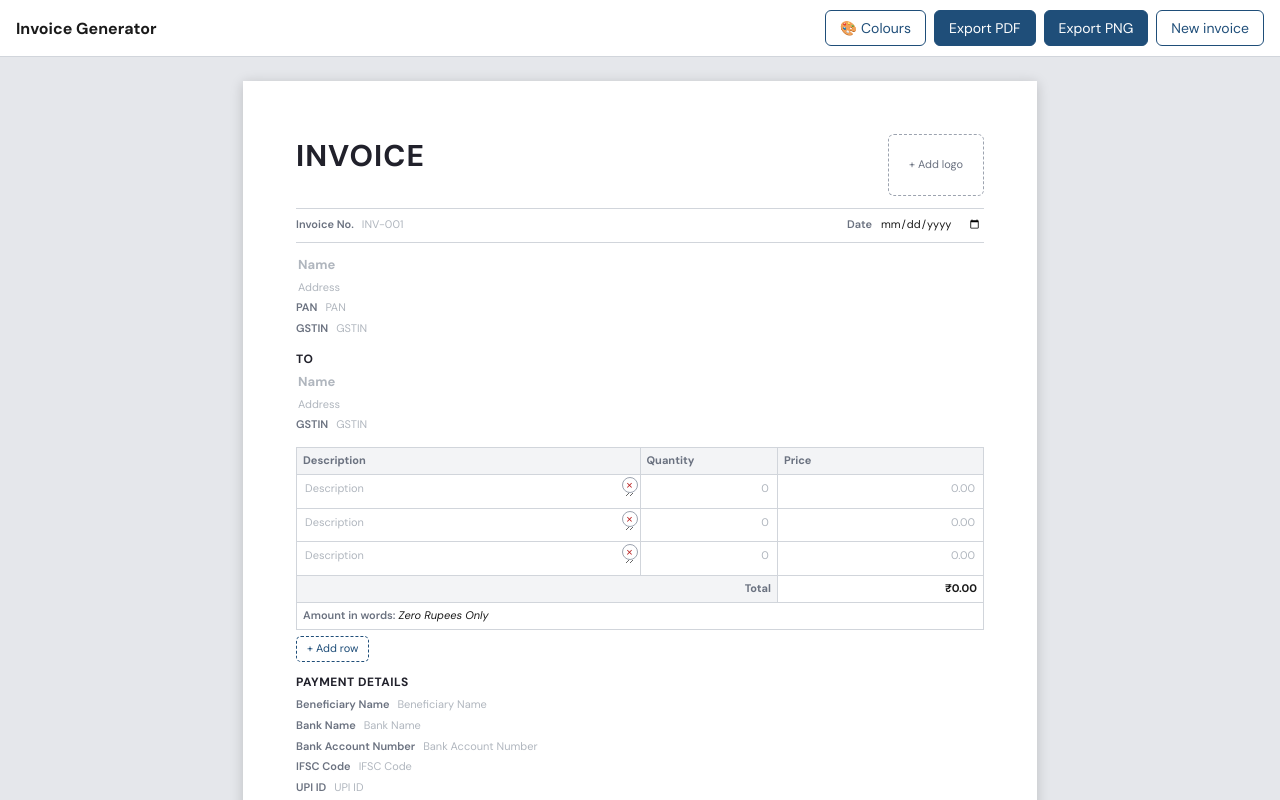
it: App › updates the Total and amount-in-words live from the Price column
The width and height of the screenshot is (1280, 800).
Type "100" into the 1st field with placeholder "0.00" at [880, 489], box [784,480,977,498]
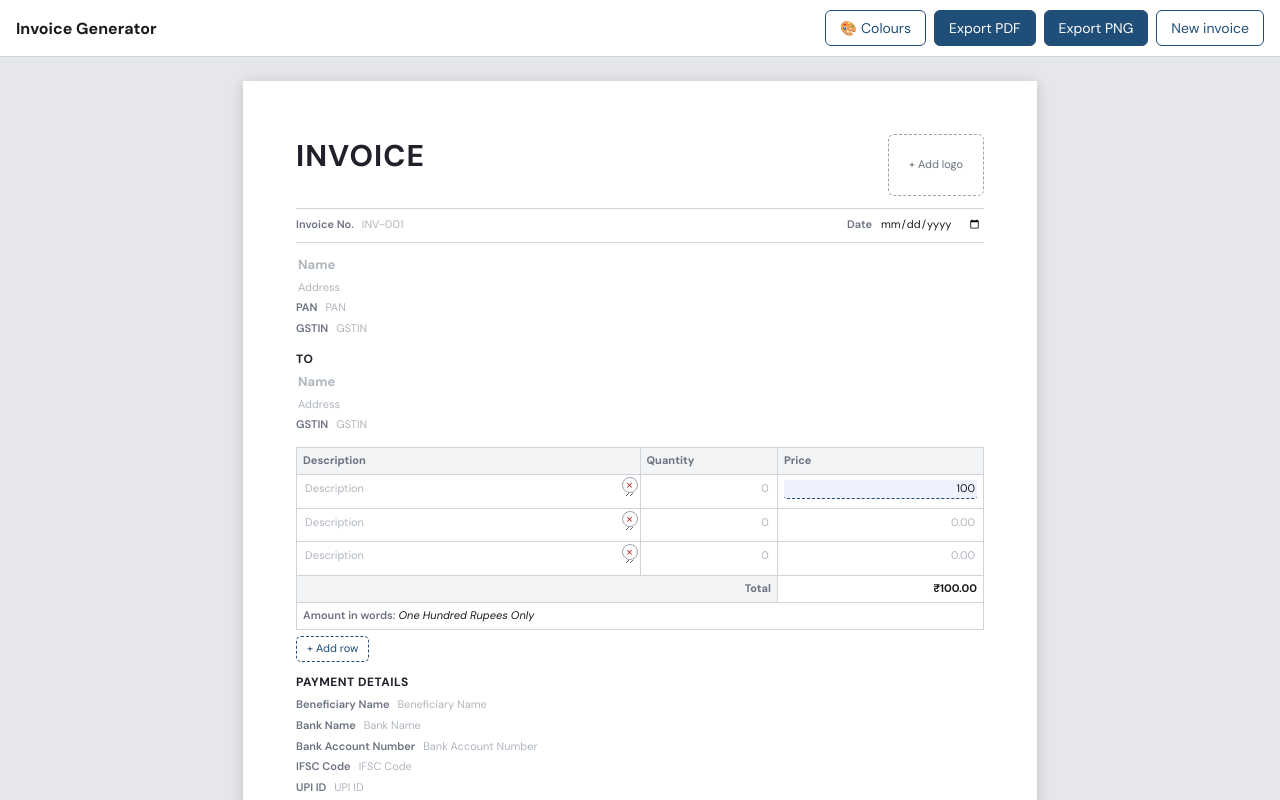
Type "250.50" into the 1st field with placeholder "0.00" at [880, 523], box [784,514,977,532]
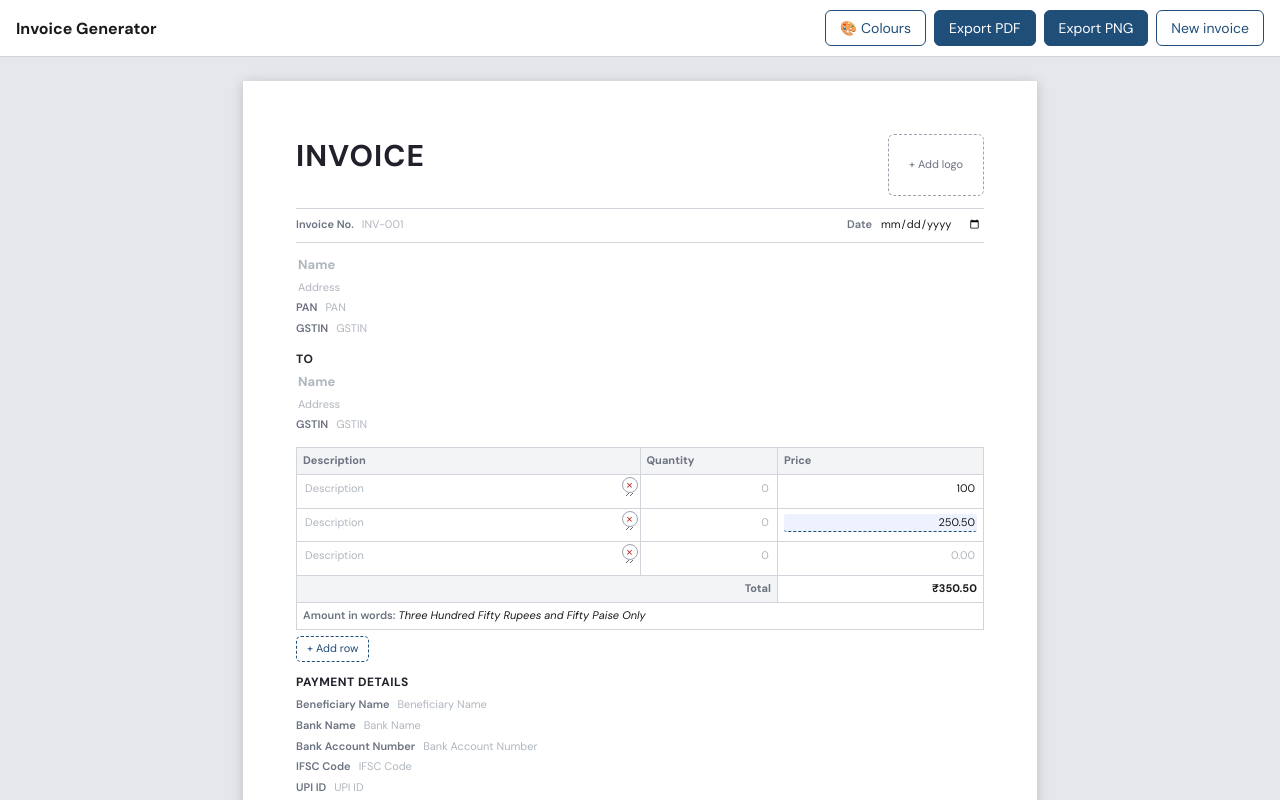
Check: the cell with class "total-value" reads "₹350.50", box [932,581,977,595]
Check: the text "Three Hundred Fifty Rupees and Fifty Paise Only" is shown, box [398,608,646,622]
